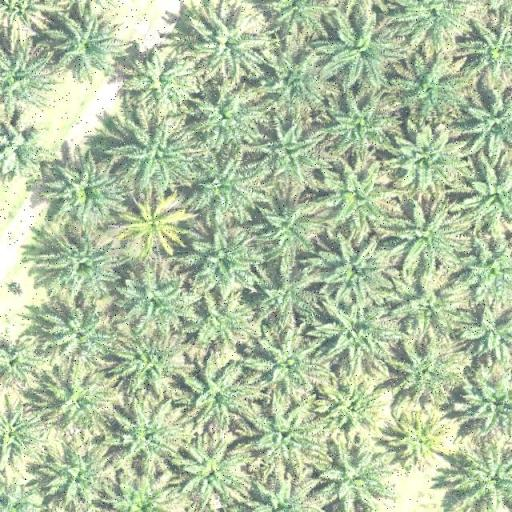Ganoderma: (126, 201, 180, 246), (397, 421, 442, 462)
